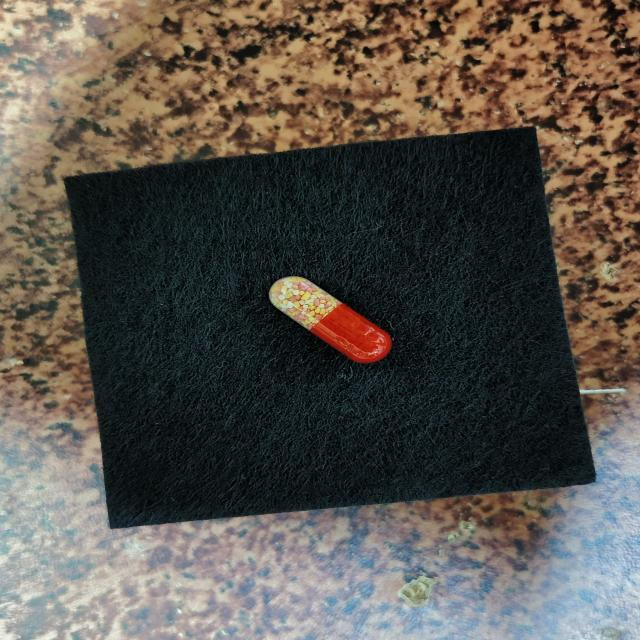Intact Capsule: (269, 276, 392, 363)
